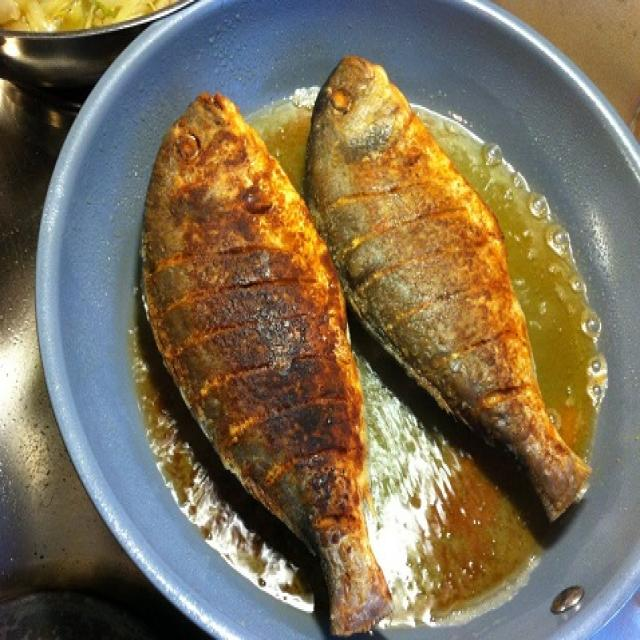Peixe: (138, 87, 395, 635), (303, 53, 592, 524)
